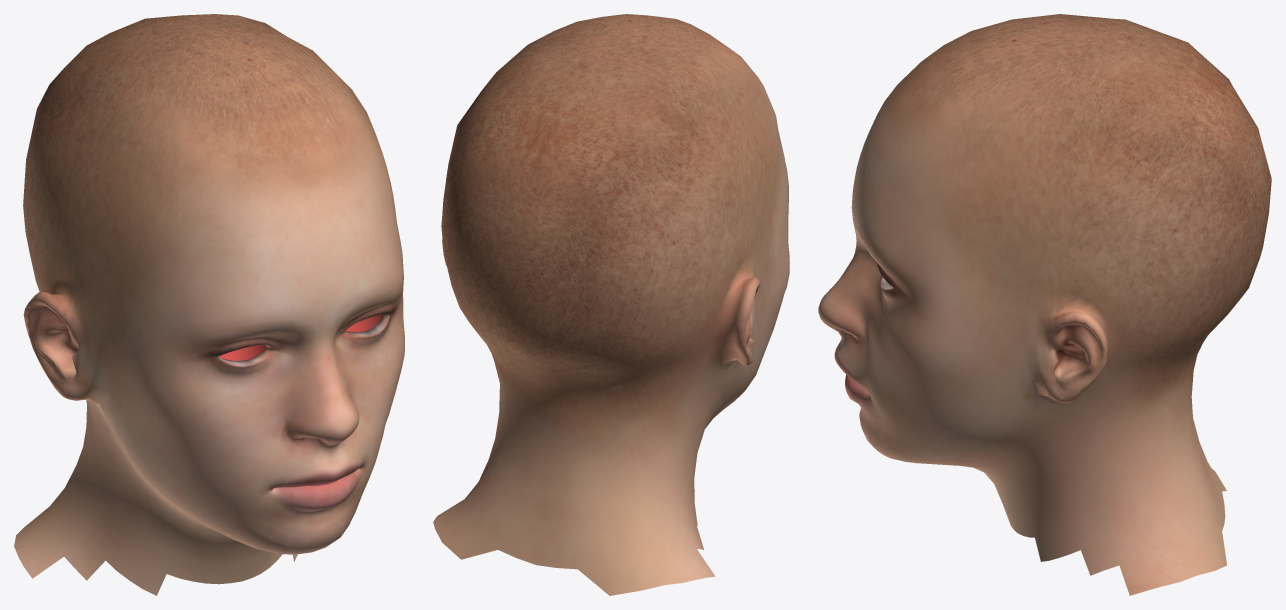
File: sample-head-scan.glb
The picture shows the model from 3 angles, left to right: view 1: azimuth 30°, elevation 25°; view 2: azimuth 150°, elevation 25°; view 3: azimuth 270°, elevation 25°; orthographic projection. The views are drawn at different scales.
Parts seen in each view (by area): view 1: SampleHeadScan; view 2: SampleHeadScan; view 3: SampleHeadScan.
Part boxes in pixels (x1,y1,x2,y2): SampleHeadScan: [14, 14, 404, 595]; SampleHeadScan: [433, 14, 789, 595]; SampleHeadScan: [818, 14, 1271, 595].
Size of the model in its own units: 0.1877 by 0.2821 by 0.2321.
1 material, 1 textured.
